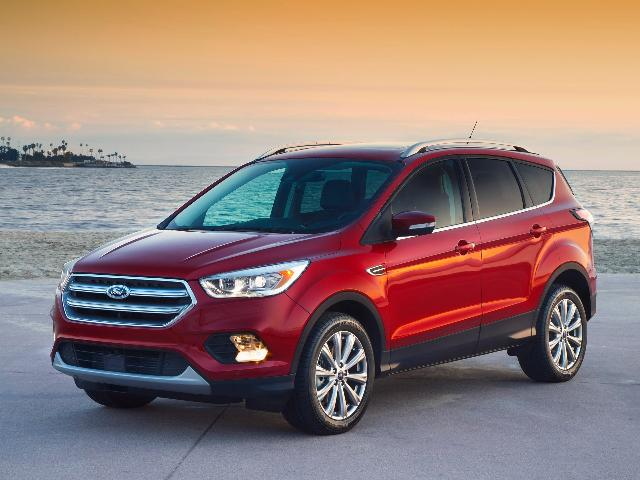ford: (49, 121, 596, 436)
